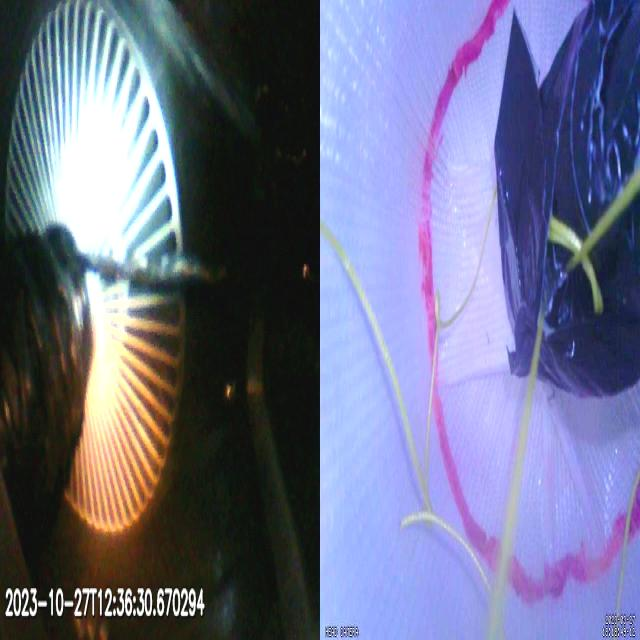red-circle: (419, 0, 640, 605)
